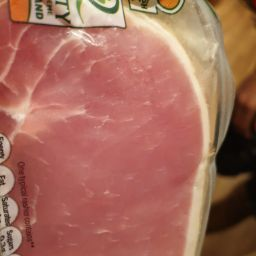Bacon: (5, 31, 233, 256), (9, 36, 202, 256), (129, 17, 238, 253), (113, 59, 228, 256)
